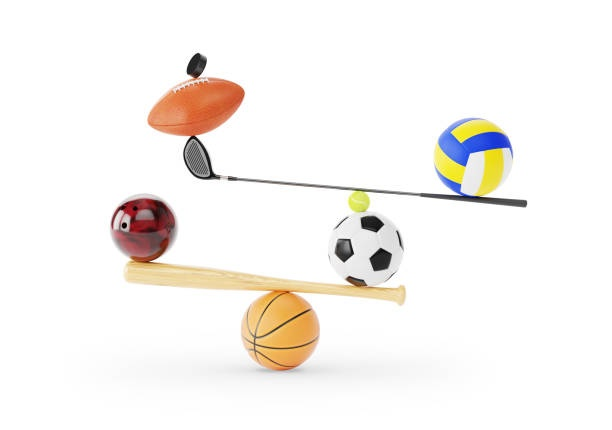bita: (108, 254, 408, 307)
